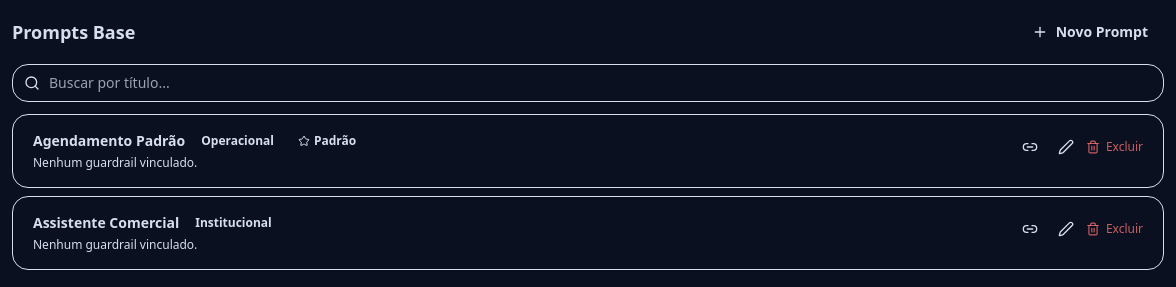
Test: PromptList › filters the list by title as the user types, case/accent-insensitively
The image size is (1176, 287).
Step 1. Type "agendamento" into the search field named "Buscar prompt por título" → point(588, 83), box [12,64,1164,102]
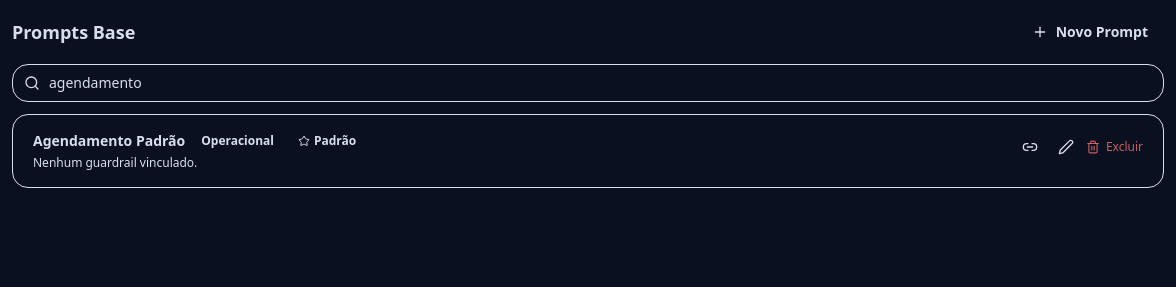
Expected: the heading "Agendamento Padrão" is shown, [33,131,185,151]
Expected: the heading "Assistente Comercial" is gone
